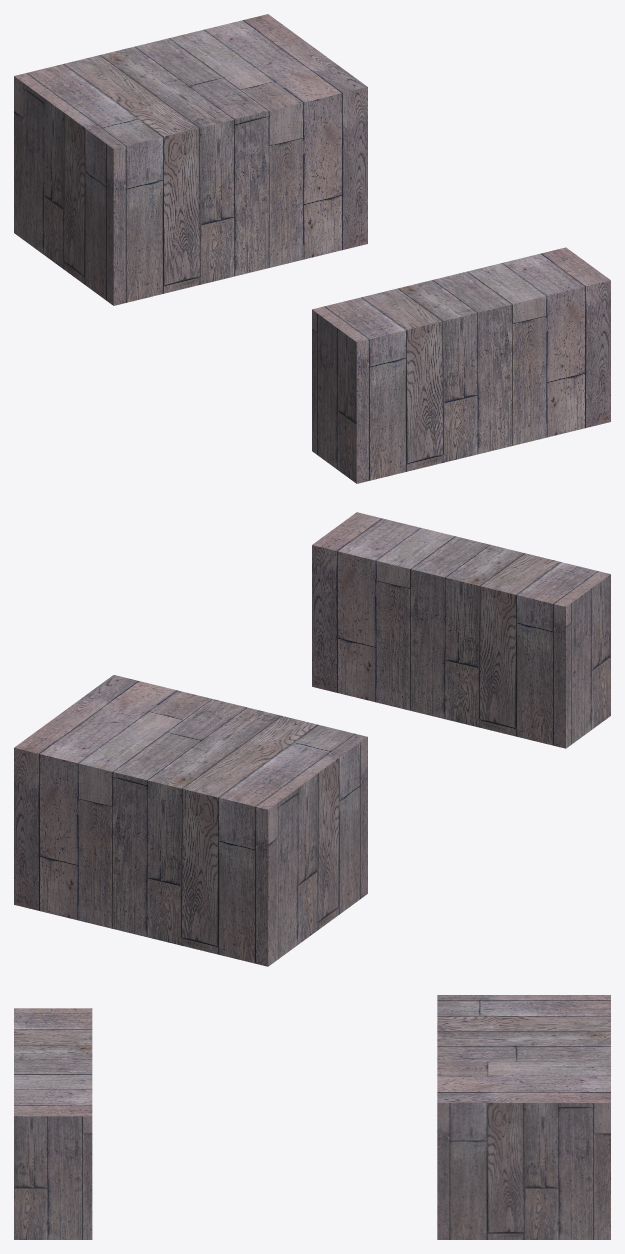
The model's file is Cannon-stand.dae.
The picture shows the model from 3 angles, top to bottom: view 1: azimuth 30°, elevation 25°; view 2: azimuth 150°, elevation 25°; view 3: azimuth 270°, elevation 25°; orthographic projection. The views are drawn at different scales.
Visible parts, largest first — view 1: Stand; view 2: Stand; view 3: Stand.
Boxes of the visible parts, x1,y1,x2,y2 form: Stand: (14, 14, 610, 483); Stand: (14, 512, 610, 966); Stand: (14, 995, 610, 1239).
Bounding box in the file's own units: 2 × 4.67 × 1.18.
Materials: 1 (1 with a texture image).
